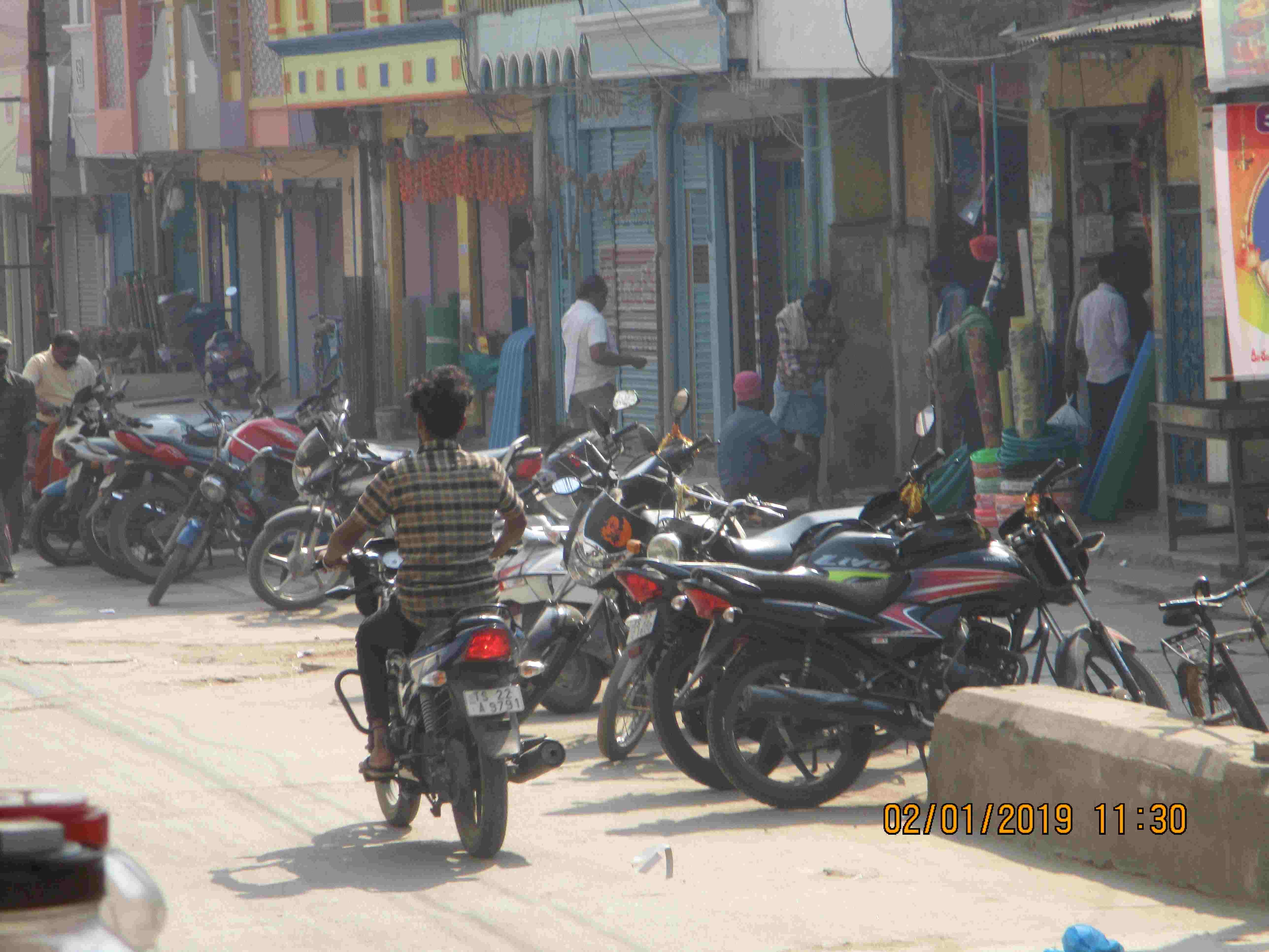plate: (455, 683, 536, 724)
